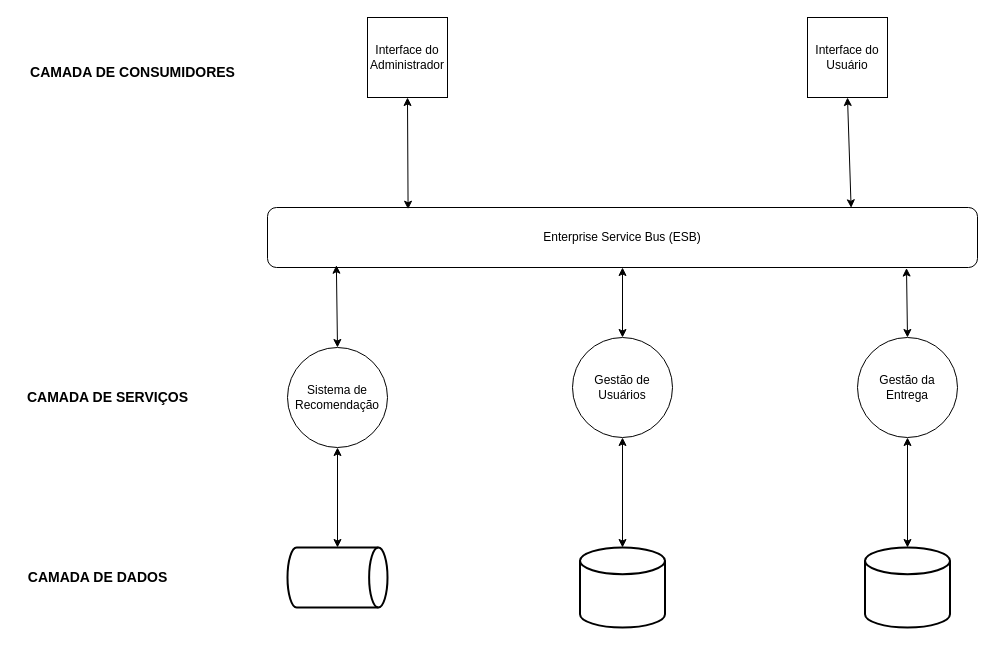
Some shapes in this 995 by 646 pixel diagram are drawn without their labels. Each missing label, with the box of its shape:
DataSet: (286, 546, 388, 608)
Entregas: (864, 546, 950, 628)
Usuários: (578, 546, 666, 628)
